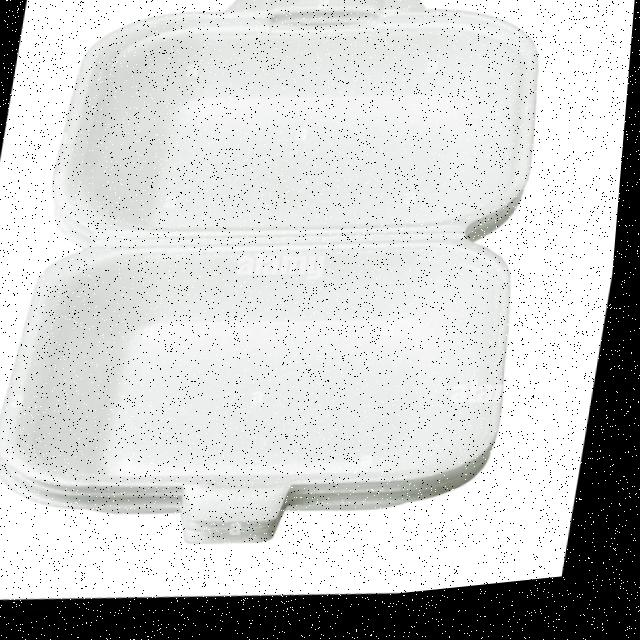foam: (0, 0, 591, 601)
